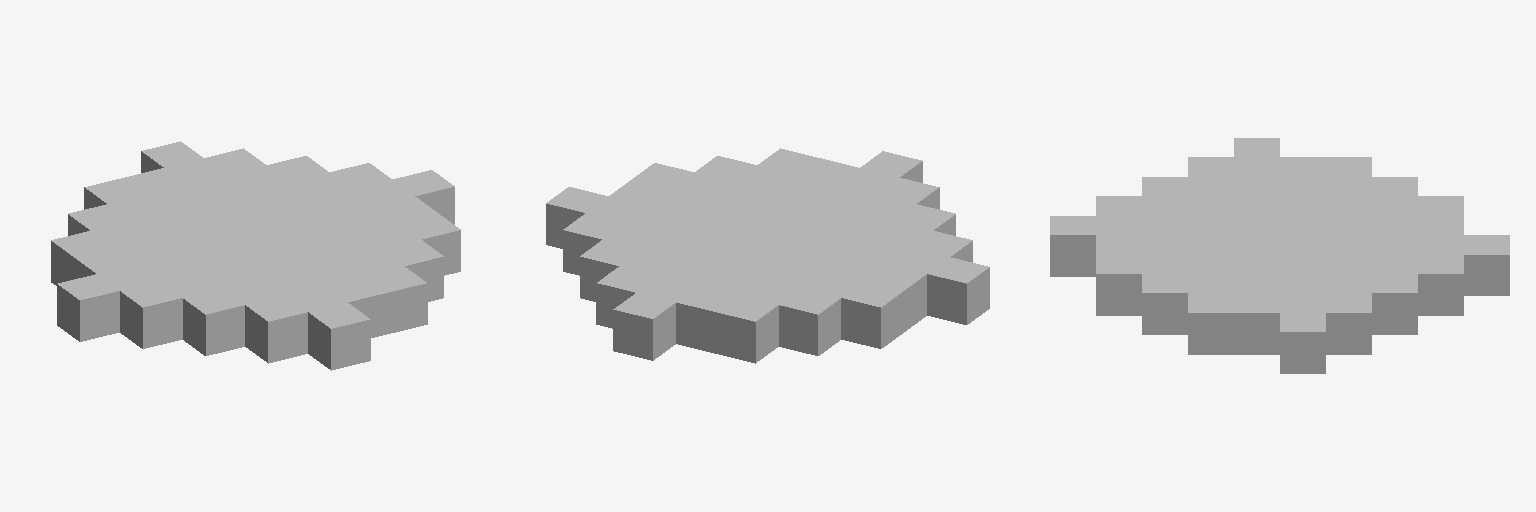
File: chease.obj
3 views of the same model, side by side, from view 1: azimuth 30°, elevation 25°; view 2: azimuth 150°, elevation 25°; view 3: azimuth 270°, elevation 25° (orthographic).
Size of the model in its own units: 10 by 1 by 10.